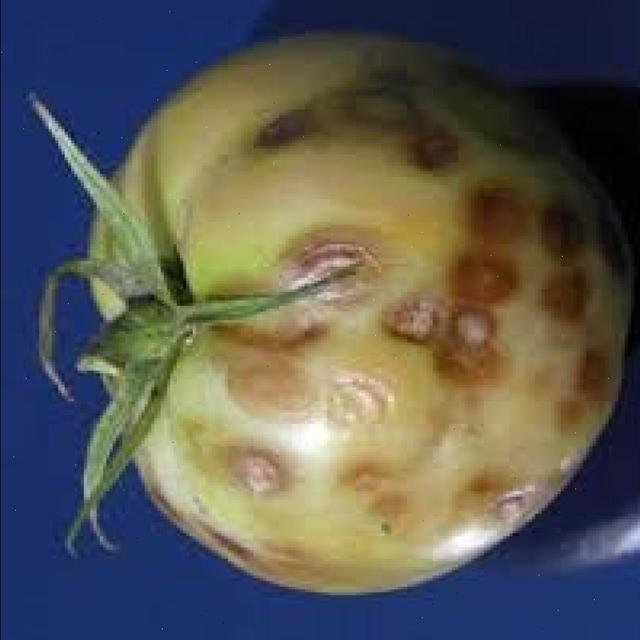Spotted wilt Virus Fruit: (55, 23, 419, 396)
